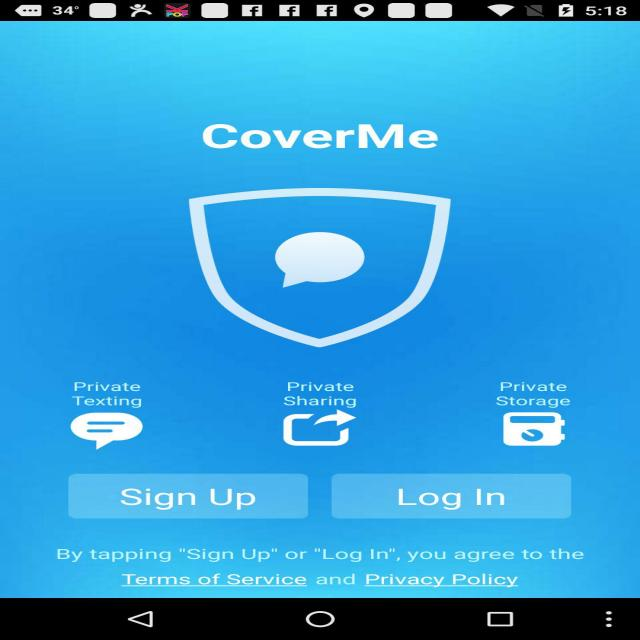button: (338, 472, 570, 518), (63, 475, 309, 518), (114, 570, 309, 592), (360, 570, 525, 592)
icon: (47, 412, 174, 452), (268, 406, 366, 451), (494, 408, 576, 451)
image: (171, 178, 489, 356)
text: (176, 112, 464, 163), (46, 544, 608, 567), (88, 569, 554, 594), (459, 368, 604, 411), (250, 372, 375, 408), (44, 378, 169, 411)
